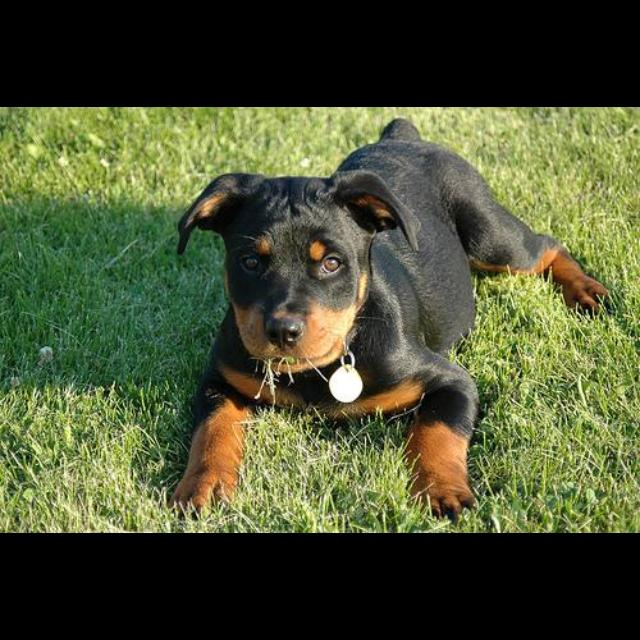rottweiler: (168, 118, 613, 523)
